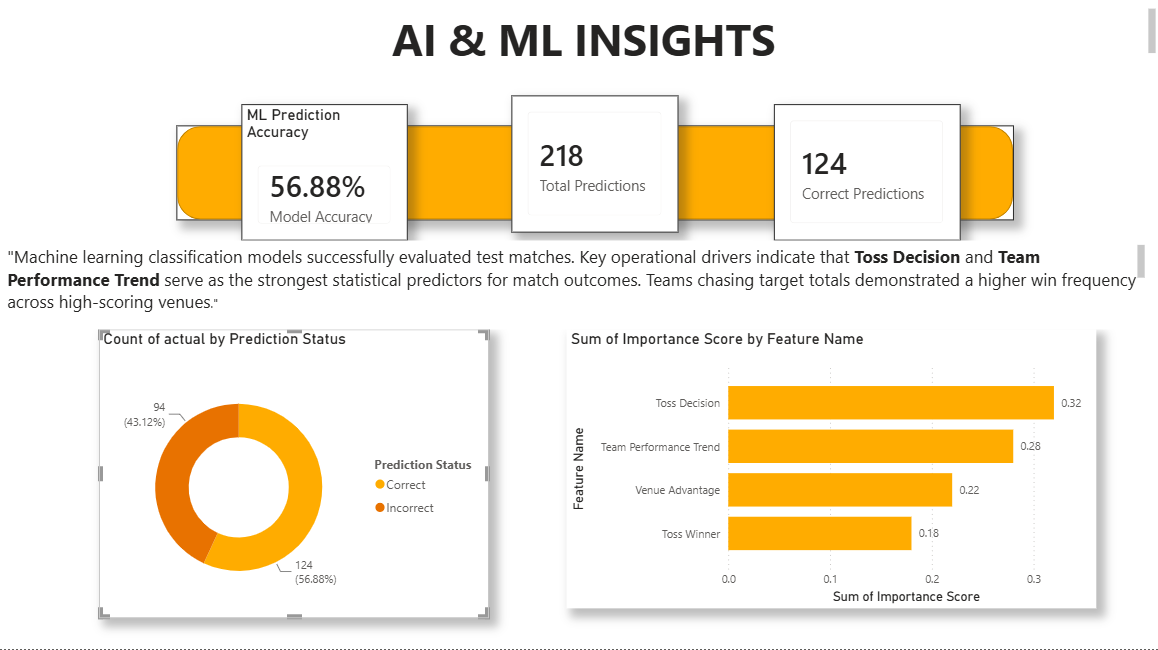

The page's visual inventory and layout, read from the dashboard file:
{"tool":"powerbi","page":{"name":" AI & ML INSIGHTS","canvas":[1280,720],"ordinal":3},"visuals":[{"type":"shape","box":[200.3,145.5,919.4,104.3],"z":0},{"type":"cardVisual","title":"ML Prediction Accuracy","fields":{"Data":["model_results.Model Accuracy"]},"box":[271.7,122.1,182.5,149.6],"z":1000},{"type":"textbox","box":[9.6,12.3,1270.7,65.9],"z":2000},{"type":"cardVisual","fields":{"Data":["model_results.Total Predictions"]},"box":[568.1,112.5,183,150],"z":3000},{"type":"cardVisual","fields":{"Data":["model_results.Correct Predictions"]},"box":[856.3,122.1,204.5,149.6],"z":4000},{"type":"clusteredBarChart","fields":{"Category":["Feature_Importance.Feature Name"],"Y":["Sum(Feature_Importance.Importance Score)"]},"box":[628.5,369.1,581.8,306],"z":5000},{"type":"donutChart","fields":{"Category":["model_results.Prediction Status"],"Y":["CountNonNull(model_results.actual)"]},"box":[115.3,369.1,428.1,317],"z":6000},{"type":"textbox","box":[9.6,271.7,1258.3,97.4],"z":7000}]}

Visuals, with their boxes in screenshot pixels (x1, y1, x2, y2), scaled from the page's 1280x720 canvas onto the 1158x650 screenshot:
shape: BBox(181, 131, 1013, 226)
"ML Prediction Accuracy" cardVisual: BBox(246, 110, 411, 245)
textbox: BBox(9, 11, 1157, 71)
cardVisual - model_results.Total Predictions: BBox(514, 102, 680, 237)
cardVisual - model_results.Correct Predictions: BBox(775, 110, 960, 245)
clusteredBarChart - Feature_Importance.Feature Name x Sum(Feature_Importance.Importance Score): BBox(569, 333, 1095, 609)
donutChart - model_results.Prediction Status x CountNonNull(model_results.actual): BBox(104, 333, 492, 619)
textbox: BBox(9, 245, 1147, 333)
